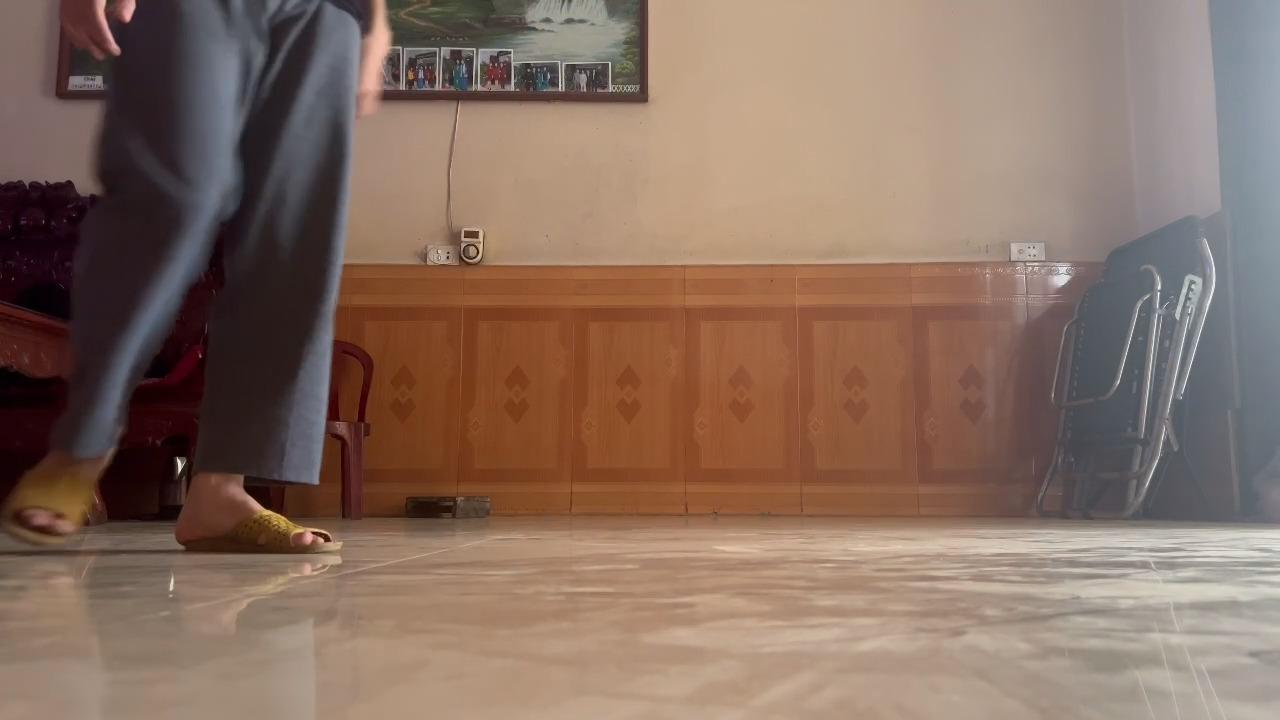no-boot: (167, 476, 342, 564), (0, 449, 117, 557)
